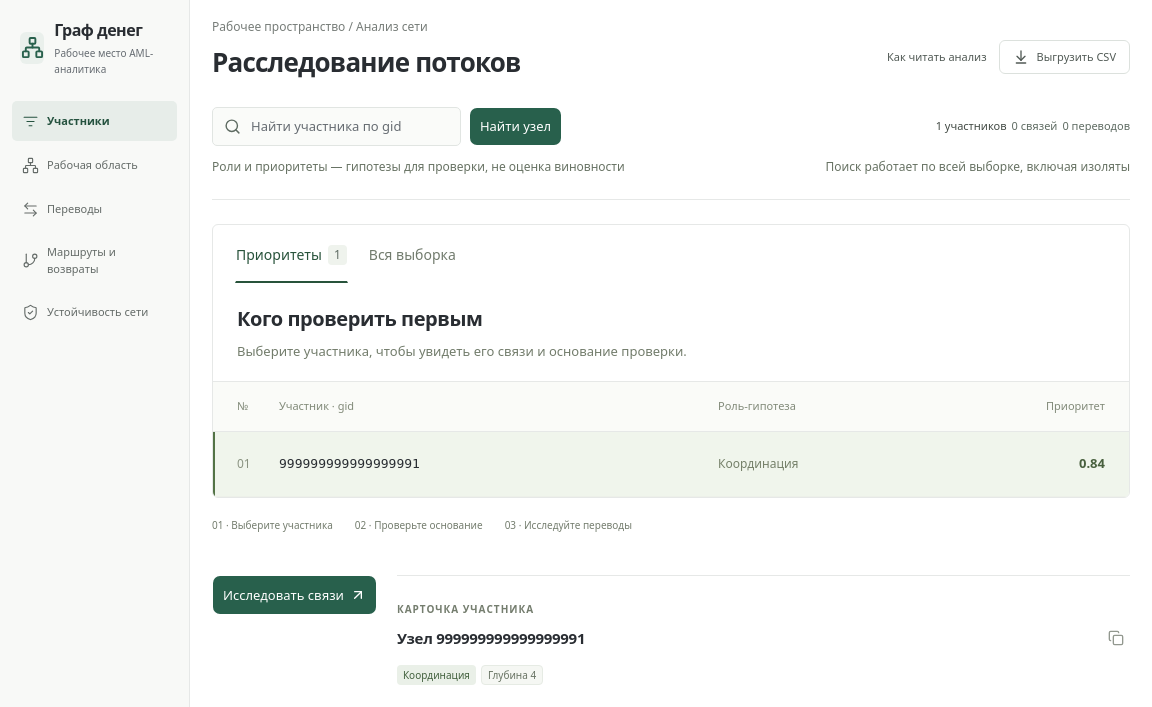
Test: readable evidence preserves the exact source and links mobile flow to the current inspector
Click the button "Рабочая область": x=94, y=165 [12, 145, 177, 185]
(page scrolled)
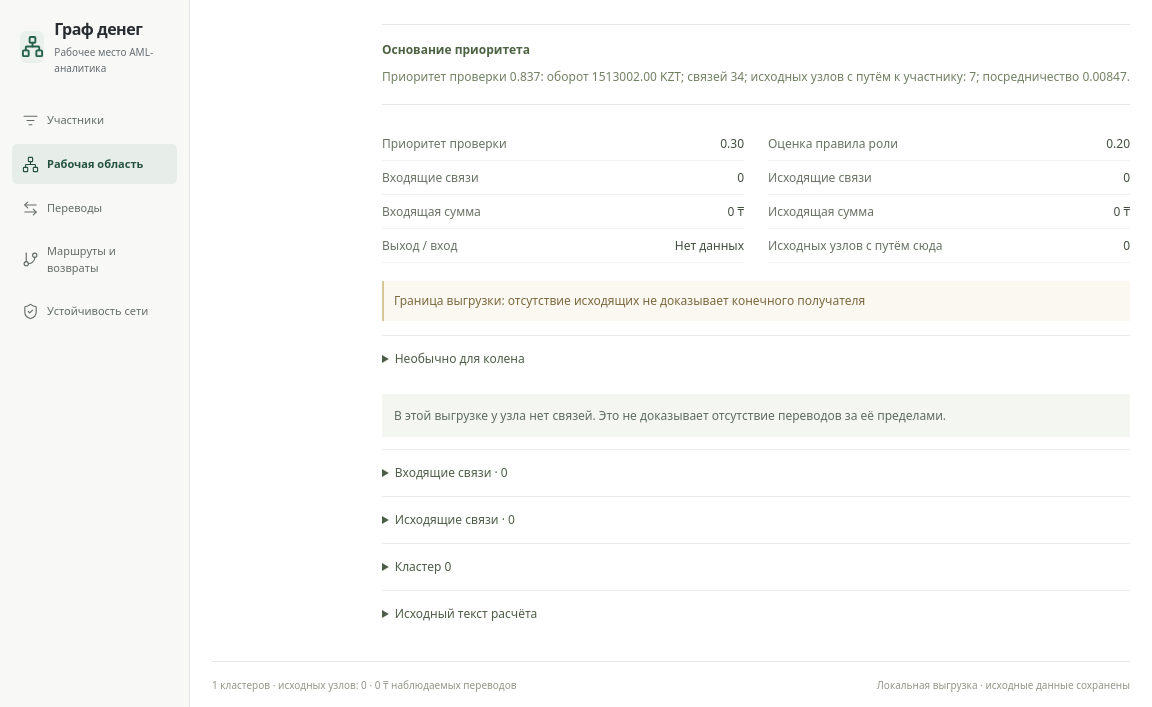
Click the heading "Исходный текст расчёта": x=466, y=614 [395, 605, 537, 622]
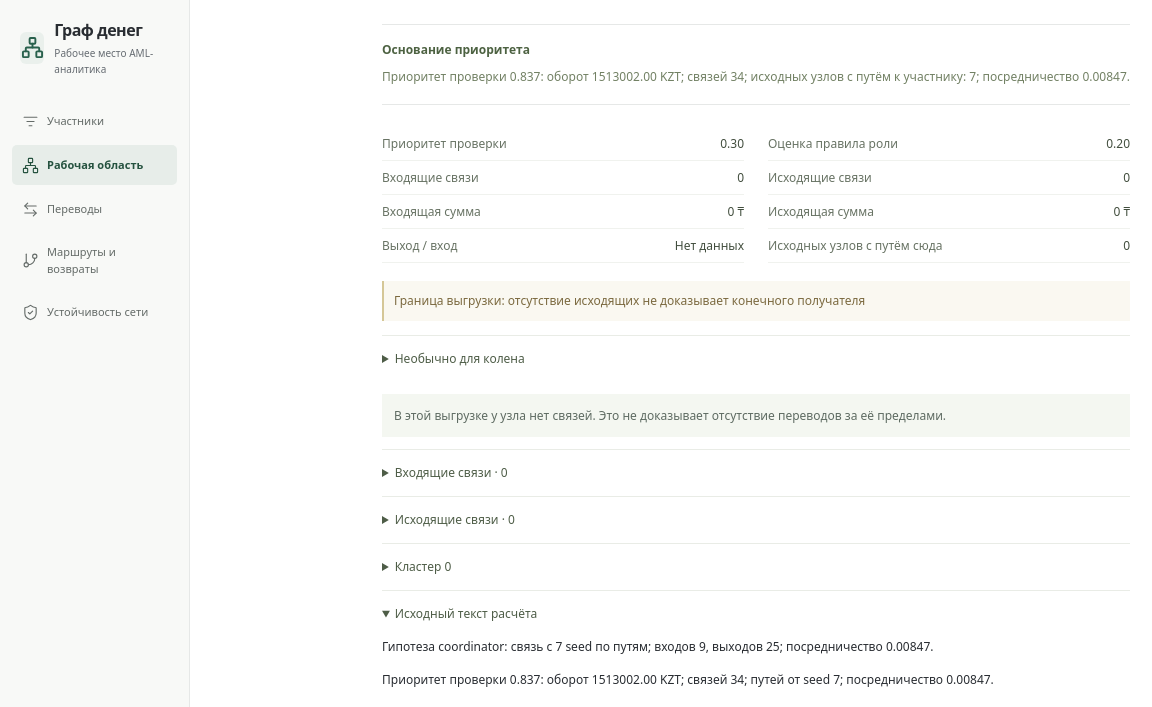
expect the text "Гипотеза coordinator: связь с 7 seed по путям; входов 9, выходов 25; посредничество 0.00847." is shown: met, box [382, 638, 934, 655]
expect the text "Приоритет проверки 0.837: оборот 1513002.00 KZT; связей 34; путей от seed 7; посредничество 0.00847." is shown: met, box [382, 671, 994, 688]
